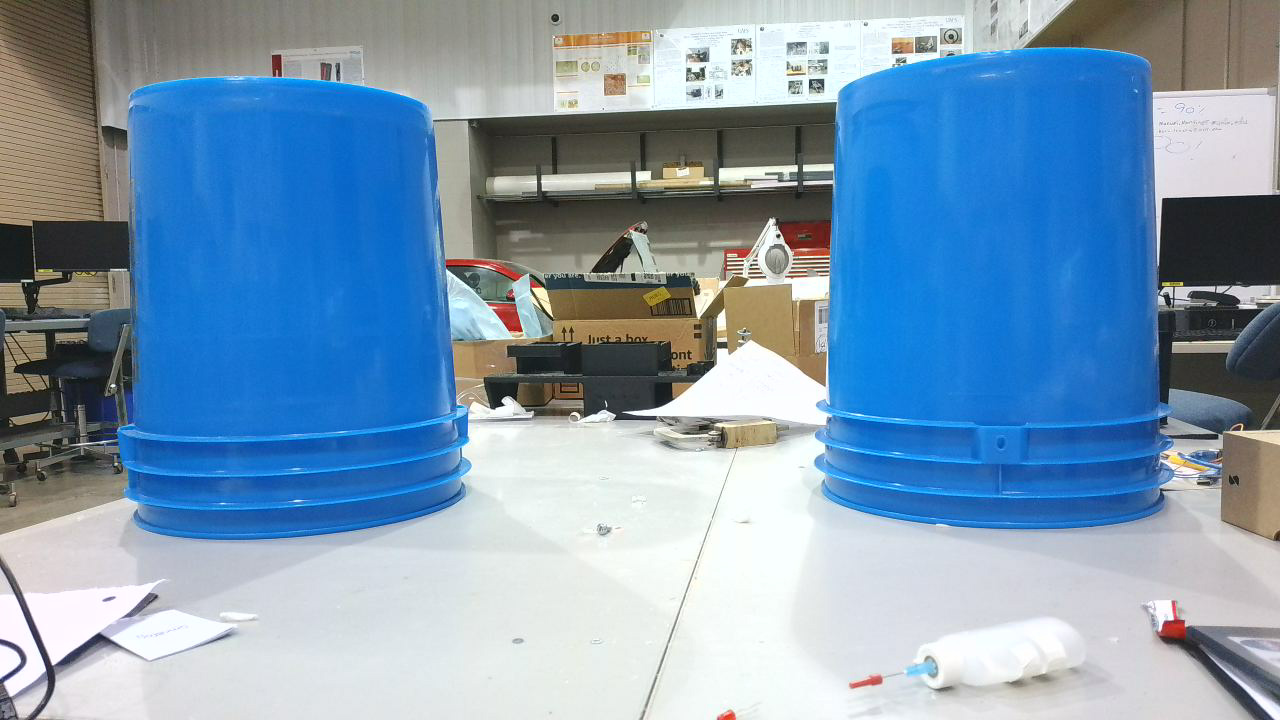blue_bucket: (818, 51, 1189, 539), (117, 77, 483, 551)
